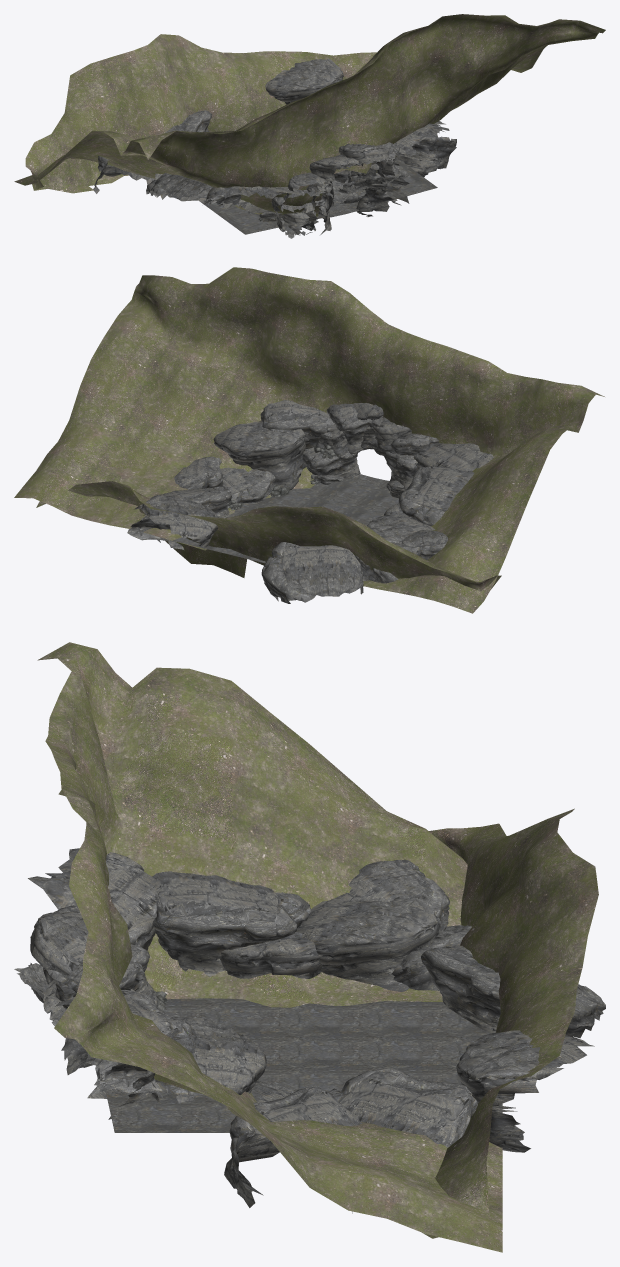
The model's file is cavestartingarea.dae.
3 views of the same model, one above another, from view 1: azimuth 30°, elevation 25°; view 2: azimuth 150°, elevation 25°; view 3: azimuth 270°, elevation 25° (orthographic). The views are drawn at different scales.
Visible parts, largest first — view 1: Grass, StriatedRock, CaveWall; view 2: Grass, StriatedRock, CaveWall, RockPile; view 3: Grass, StriatedRock, CaveWall.
Boxes of the visible parts, x1,y1,x2,y2 form: Grass: (14, 14, 605, 216); StriatedRock: (93, 58, 456, 238); CaveWall: (199, 130, 437, 234); Grass: (14, 267, 604, 613); StriatedRock: (127, 400, 493, 603); CaveWall: (163, 474, 398, 563); RockPile: (227, 444, 336, 510); Grass: (37, 642, 598, 1252); StriatedRock: (14, 848, 605, 1213); CaveWall: (105, 998, 502, 1132).
Bounding box in the file's own units: 12000 × 7672 × 5140.
Materials: 4 (4 with a texture image).
